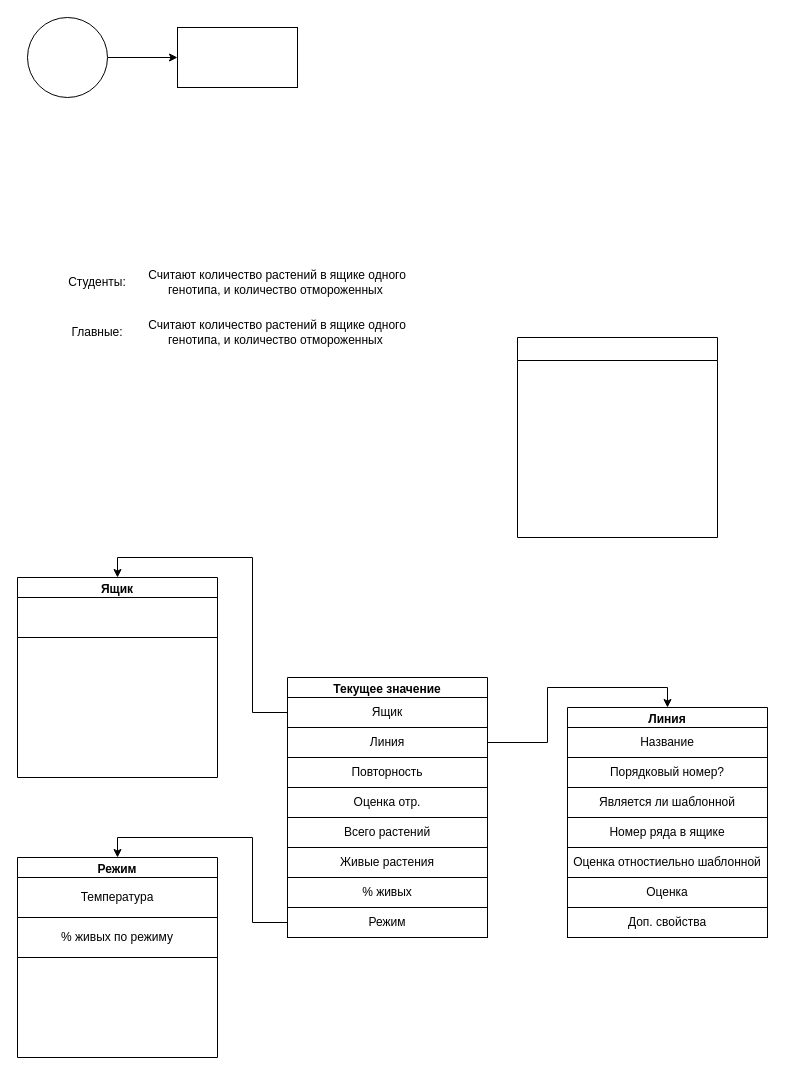
The diagram is 785 pixels wide and 1075 high, and some of its shapes have lost their labels. Each missing label, with the centre of its shape:
"Номер ящика" belongs at point (117, 617).
"Пользователь заходит" belongs at point (67, 57).
"Эксперимент" belongs at point (617, 437).
